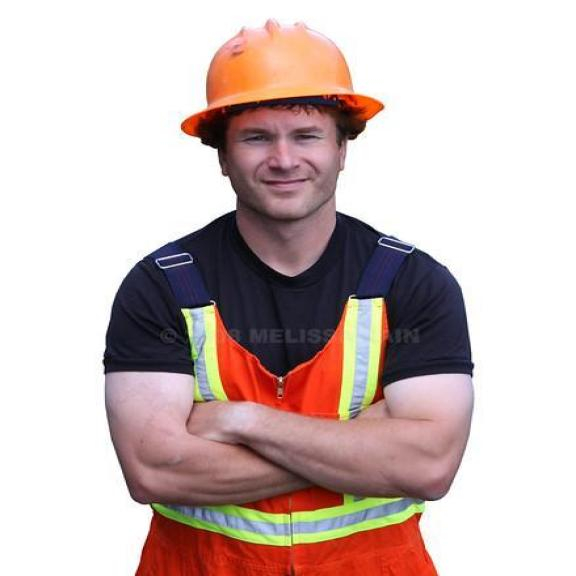safety_vest: (145, 233, 424, 545)
